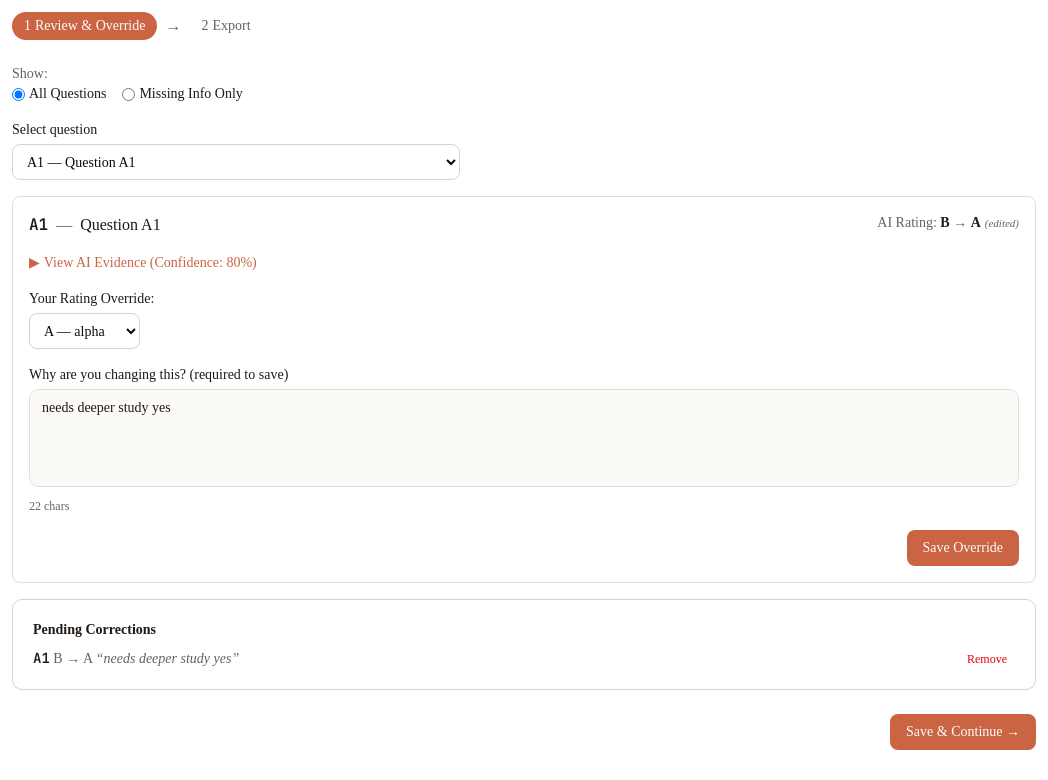
Test: HiflWizard › renders the markdown summary report on the Export step when provided
This screenshot has width=1048, height=780.
What coordinates should you click on to do the following:
click the button "Save & Continue →"
I would click on:
 (963, 732)
Its box is left=890, top=714, right=1036, bottom=750.
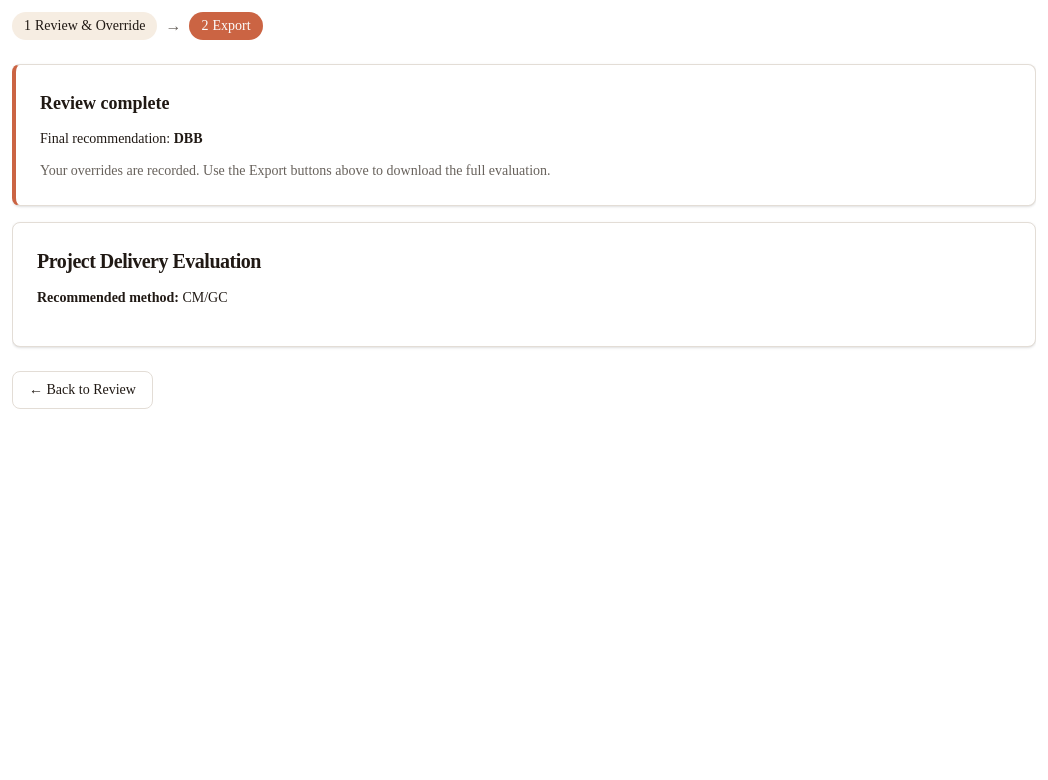
Result: the heading "Project Delivery Evaluation" is shown at left=37, top=250, right=261, bottom=272
